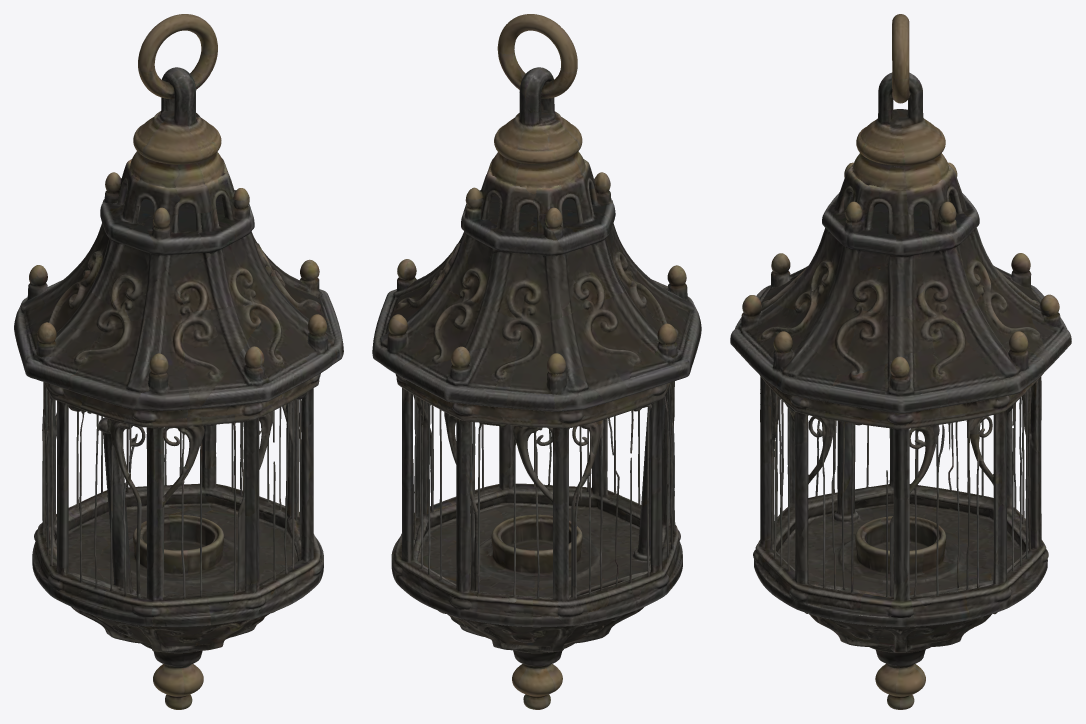
Rendered from hanging-fantasy-lantern.glb.
3 views of the same model, side by side, from view 1: azimuth 30°, elevation 25°; view 2: azimuth 150°, elevation 25°; view 3: azimuth 270°, elevation 25° (orthographic).
Visible parts, largest first — view 1: mesh_node; view 2: mesh_node; view 3: mesh_node.
Part boxes in pixels (x1,y1,x2,y2): mesh_node: (14,14,343,709); mesh_node: (372,14,701,709); mesh_node: (730,14,1071,709).
Bounding box in the file's own units: 0.8703 × 1.9 × 0.8571.
Materials: 1 (1 with a texture image).
